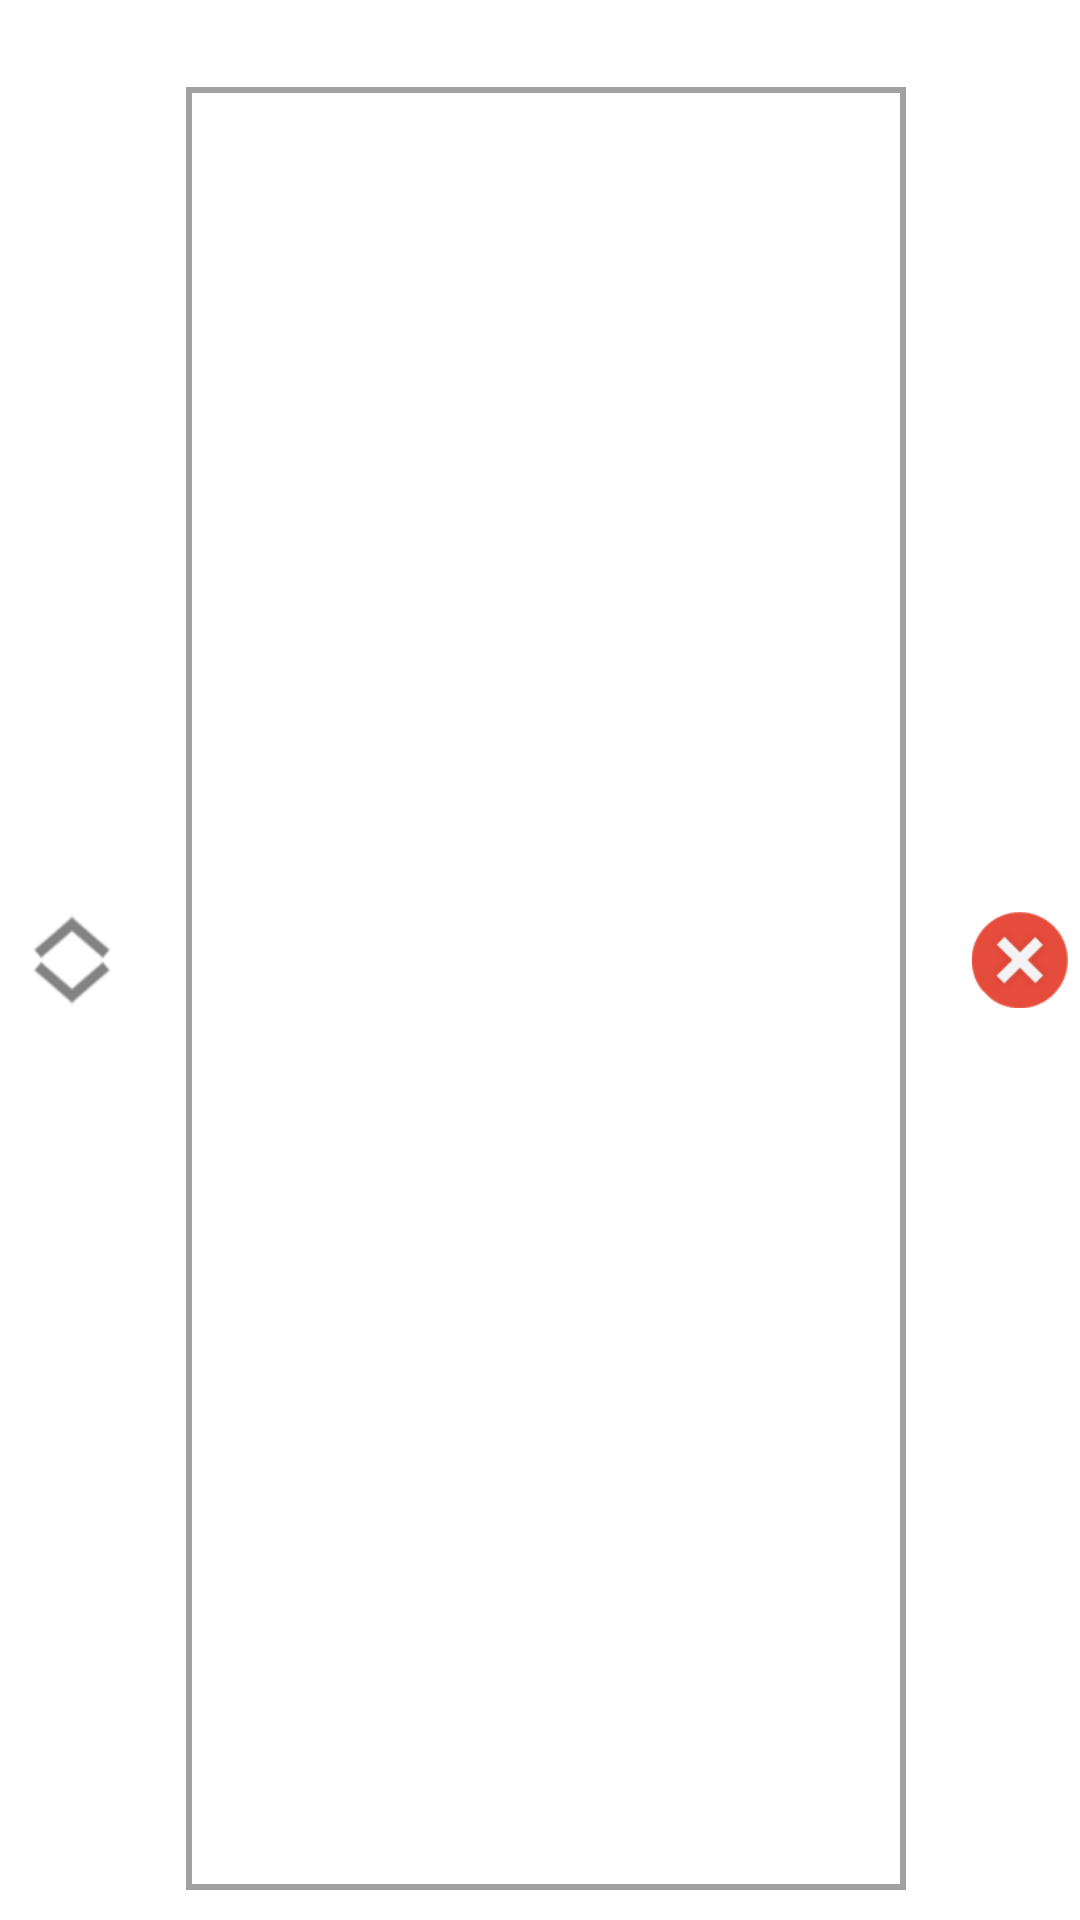

Named icons in this screenshot (1080×1920) and their centers, (x=x, y=y):
drag: (x=72, y=960)
remove filter: (x=1020, y=960)
